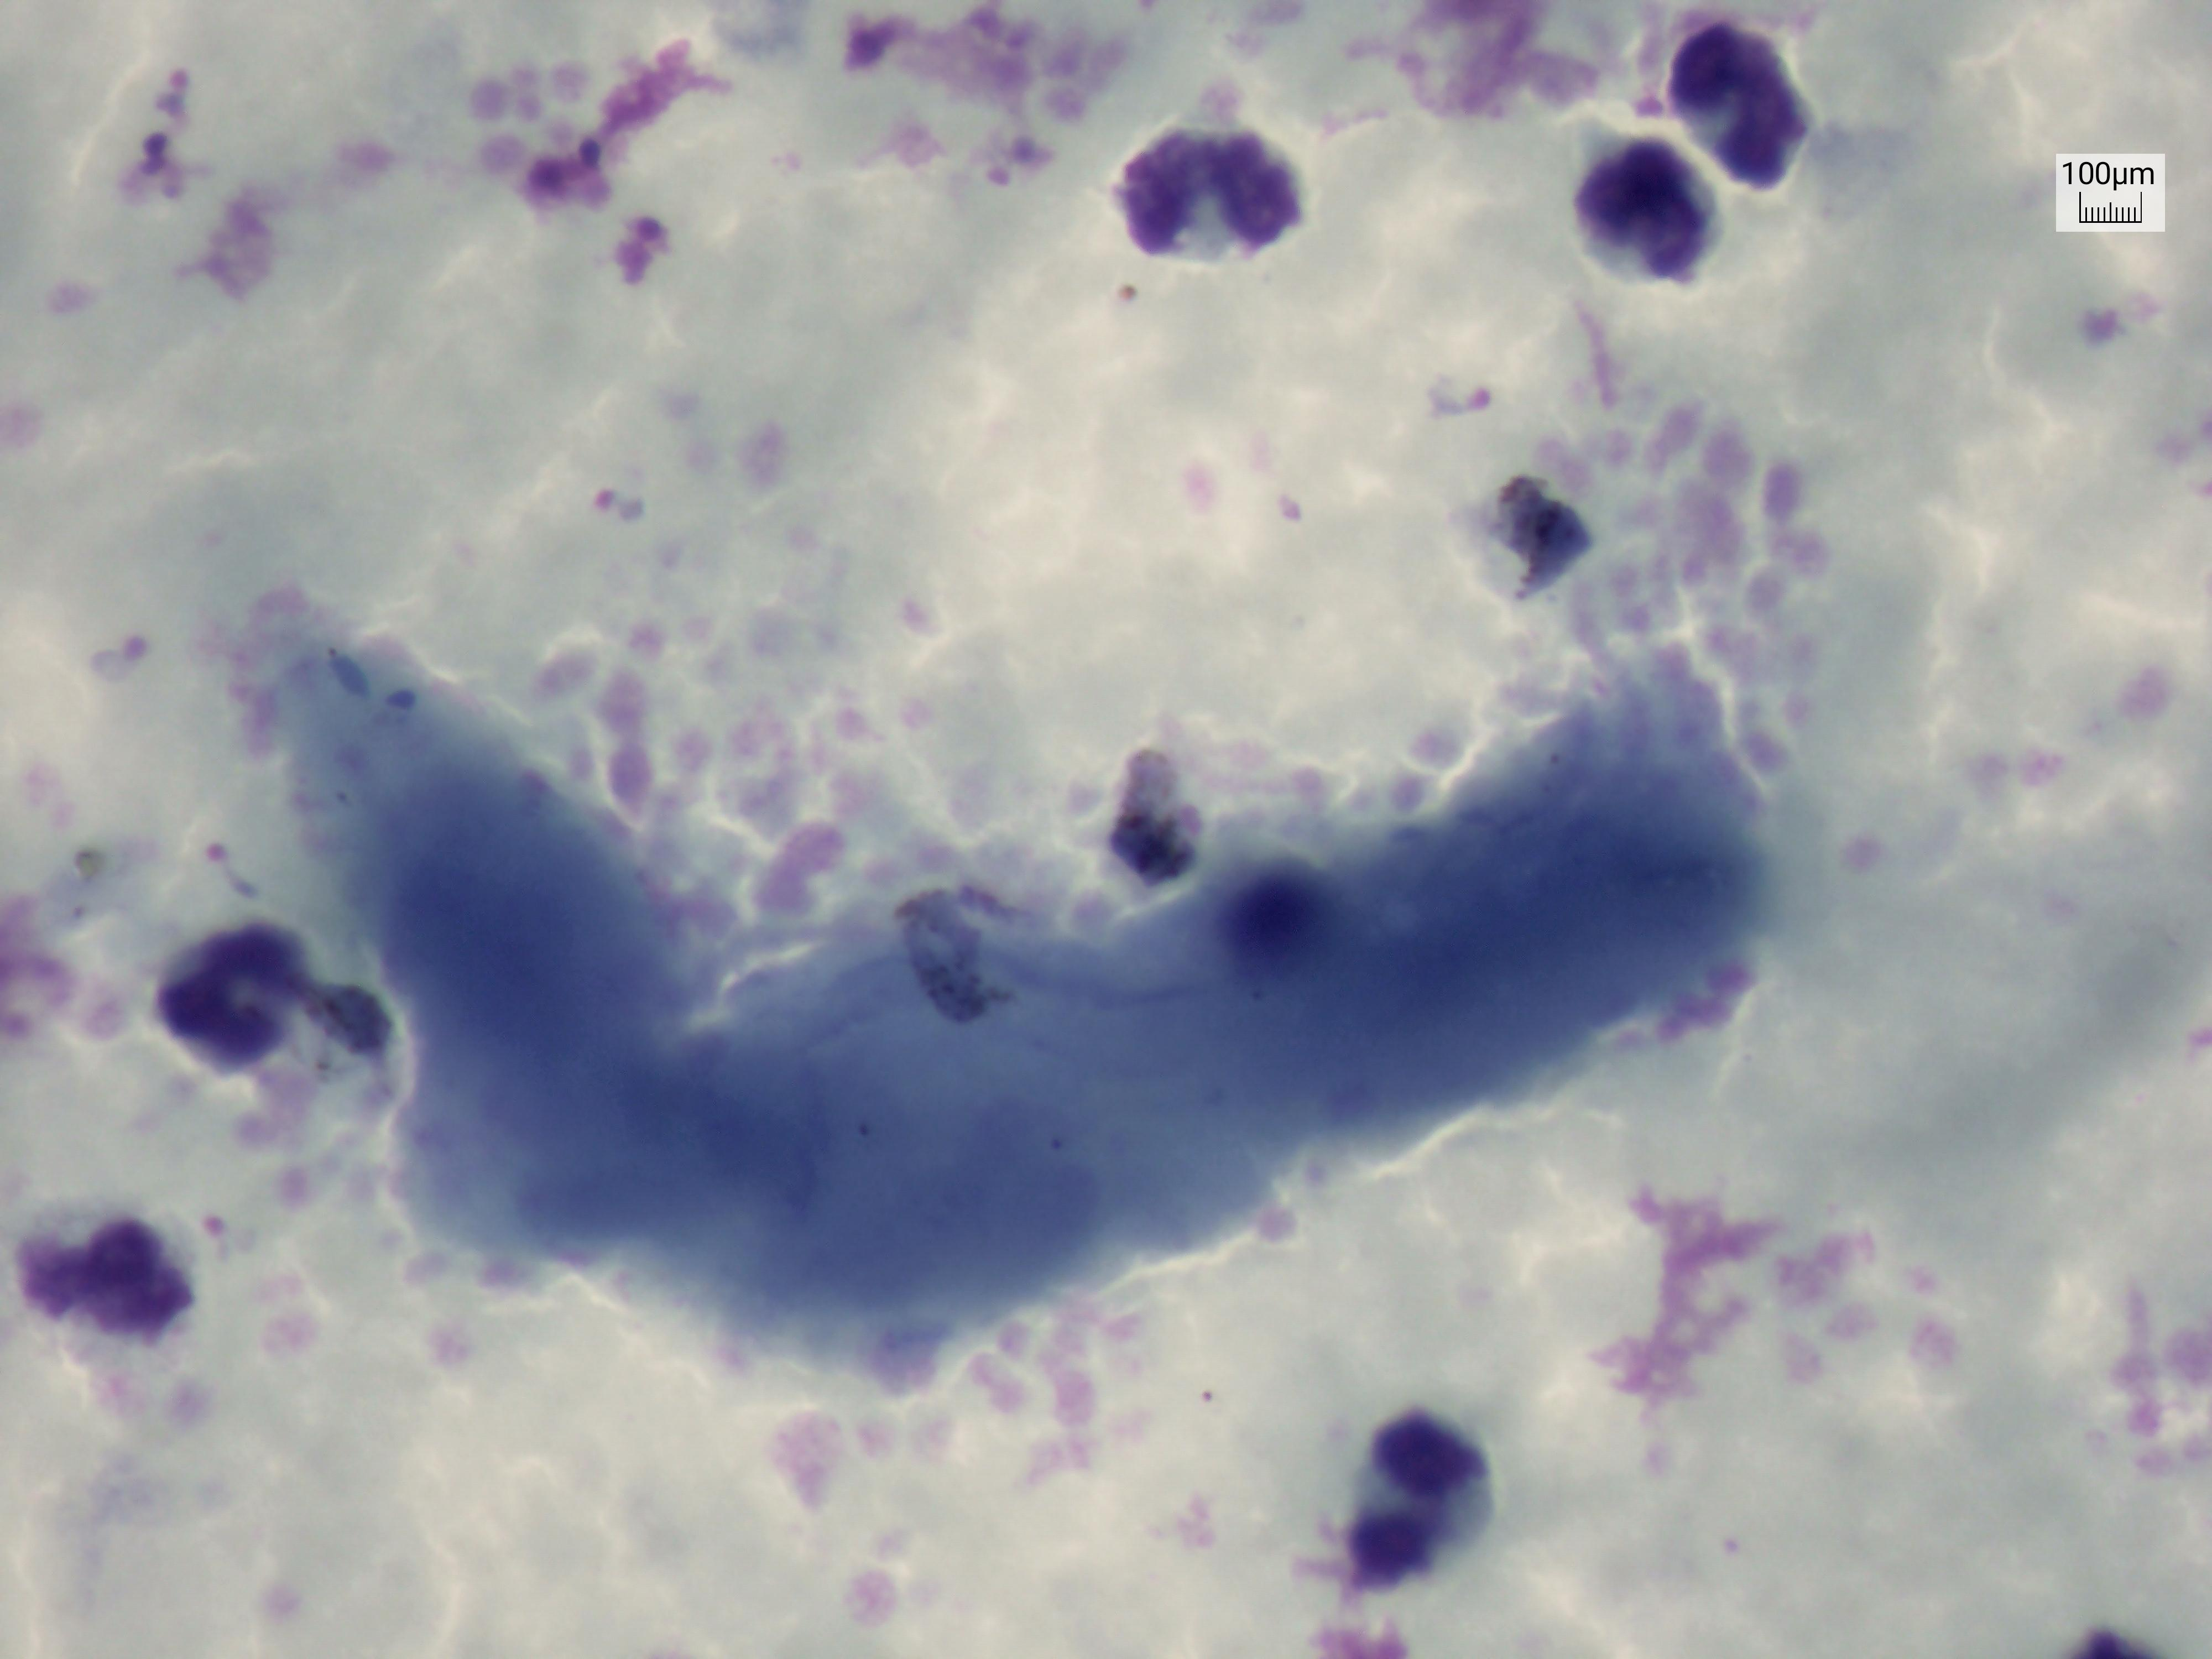p.vivax: (876, 870, 1031, 1037), (1449, 457, 1616, 608), (1069, 758, 1231, 897), (272, 932, 413, 1084), (113, 108, 211, 240), (188, 800, 280, 936), (580, 460, 665, 566), (1418, 349, 1507, 444), (982, 106, 1066, 197)
